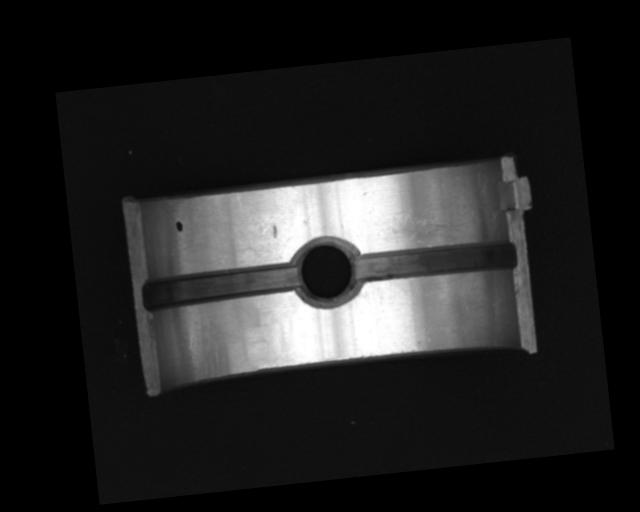blot: (175, 220, 184, 233)
bruise: (271, 224, 278, 239)
gap: (351, 236, 518, 286), (140, 262, 299, 309)
hole: (288, 232, 364, 312)
scratch: (380, 203, 483, 253)
